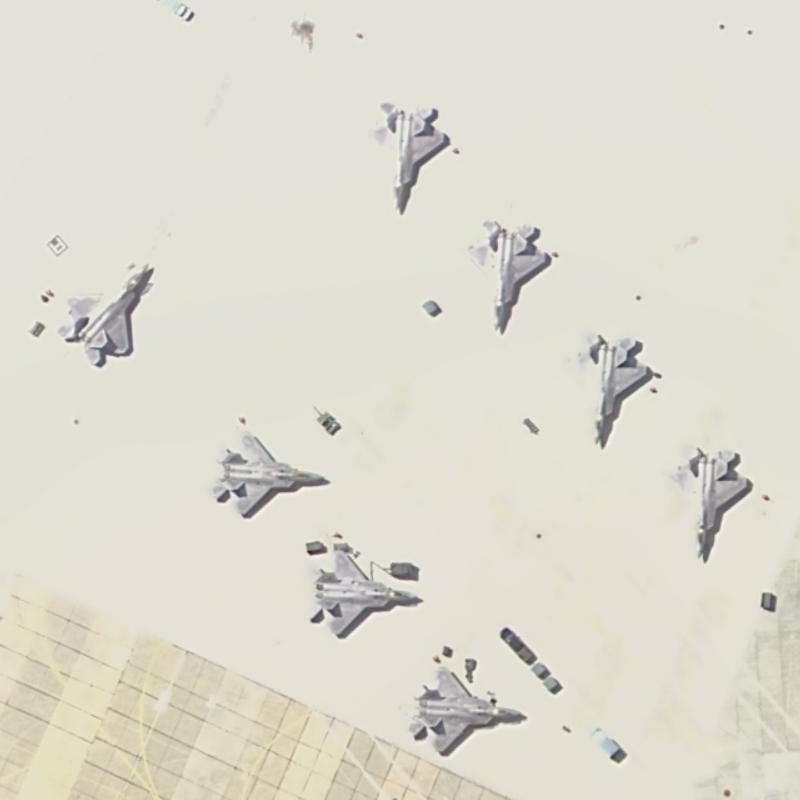A15: (202, 421, 335, 522), (401, 659, 527, 764), (296, 543, 426, 644), (656, 443, 759, 569), (49, 255, 156, 372), (562, 327, 658, 450), (460, 213, 554, 338), (362, 92, 454, 219)
